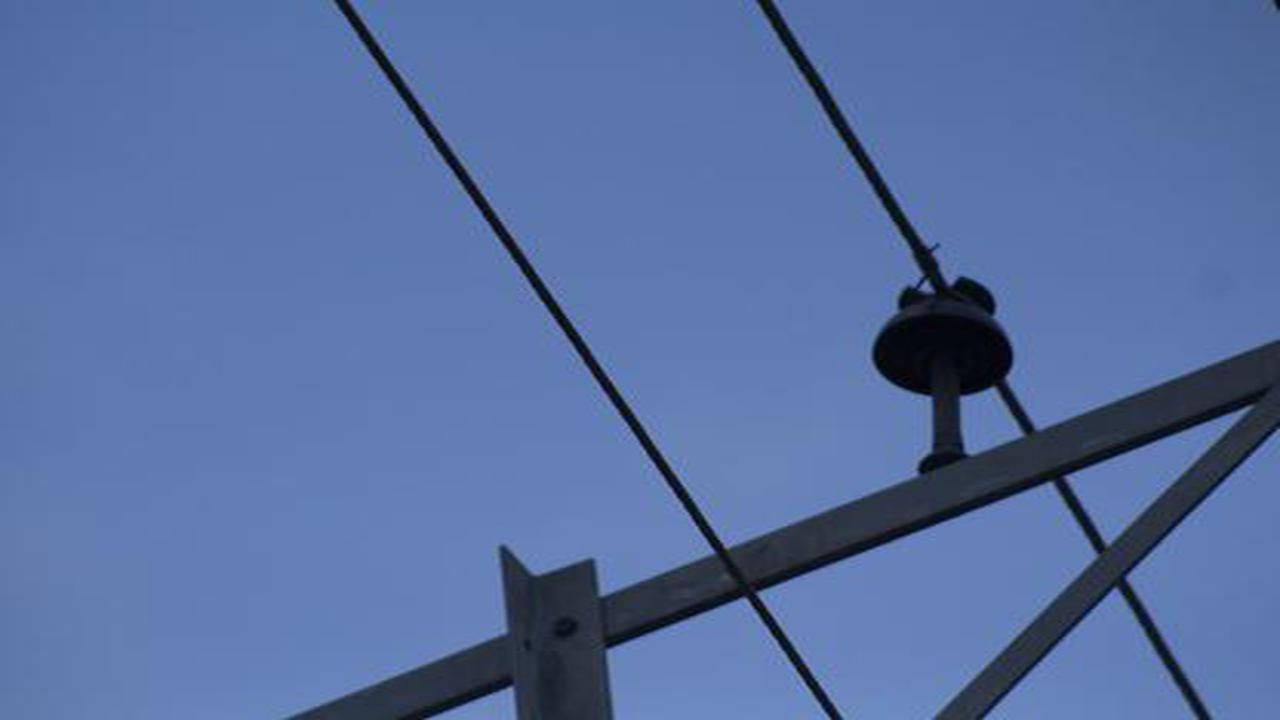insulator_pin: (867, 273, 1023, 406)
